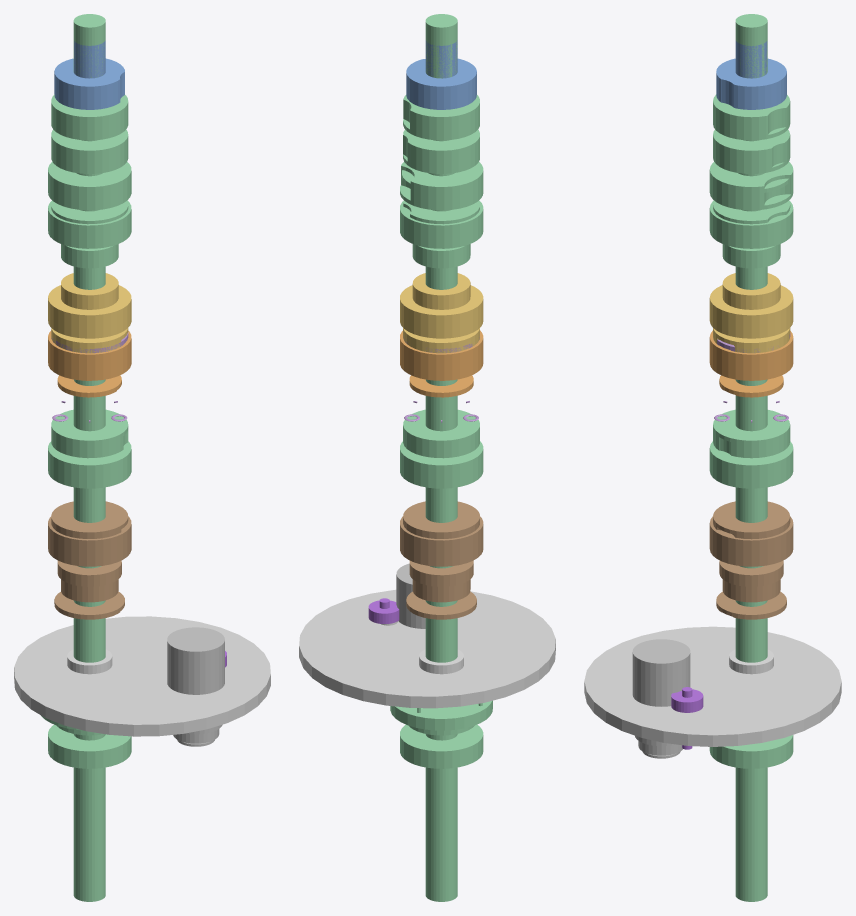
File: gearbox.glb
3 renders of one model, left to right at view 1: azimuth 30°, elevation 25°; view 2: azimuth 150°, elevation 25°; view 3: azimuth 270°, elevation 25°, orthographic.
Visible parts, largest first — view 1: Intermediate Plate, Output Shaft, Counter Gear, Transmission Hub Sleeve No.2, 2nd Gear, Input Shaft Front Bearing, 5th Gear, Transmission Clutch Hub No.2 (Outer), Output Shaft Center Bearing, Output Shaft Rear Bearing, Input Shaft Bearing, 1st Gear (+13 smaller); view 2: Intermediate Plate, Output Shaft, Transmission Hub Sleeve No.2, 2nd Gear, Input Shaft Front Bearing, Output Shaft Rear Bearing, 5th Gear, Output Shaft Center Bearing, Transmission Clutch Hub No.2 (Outer), 1st Gear, Reverse Gear, Input Shaft Bearing (+15 smaller); view 3: Intermediate Plate, Output Shaft, Counter Gear, Transmission Hub Sleeve No.2, 2nd Gear, Input Shaft Front Bearing, 5th Gear, Transmission Clutch Hub No.2 (Outer), Output Shaft Center Bearing, 1st Gear, Input Shaft Bearing, Reverse Gear (+14 smaller).
Part boxes in pixels (x1=…): Intermediate Plate: x1=14, y1=616, x2=270, y2=736; Output Shaft: x1=73, y1=14, x2=105, y2=901; Counter Gear: x1=167, y1=627, x2=224, y2=694; Transmission Hub Sleeve No.2: x1=48, y1=161, x2=131, y2=210; 2nd Gear: x1=48, y1=285, x2=131, y2=338; Input Shaft Front Bearing: x1=54, y1=58, x2=124, y2=109; 5th Gear: x1=48, y1=441, x2=131, y2=488; Transmission Clutch Hub No.2 (Outer): x1=51, y1=129, x2=128, y2=173; Output Shaft Center Bearing: x1=51, y1=409, x2=128, y2=458; Output Shaft Rear Bearing: x1=48, y1=724, x2=131, y2=768; Input Shaft Bearing: x1=51, y1=94, x2=128, y2=140; 1st Gear: x1=48, y1=516, x2=131, y2=566; Intermediate Plate: x1=299, y1=589, x2=555, y2=708; Output Shaft: x1=425, y1=14, x2=457, y2=901; Transmission Hub Sleeve No.2: x1=400, y1=162, x2=483, y2=210; 2nd Gear: x1=400, y1=285, x2=483, y2=338; Input Shaft Front Bearing: x1=406, y1=58, x2=476, y2=109; Output Shaft Rear Bearing: x1=400, y1=724, x2=483, y2=768; 5th Gear: x1=400, y1=441, x2=483, y2=488; Output Shaft Center Bearing: x1=403, y1=409, x2=479, y2=458; Transmission Clutch Hub No.2 (Outer): x1=403, y1=129, x2=479, y2=173; 1st Gear: x1=400, y1=516, x2=483, y2=566; Reverse Gear: x1=400, y1=330, x2=483, y2=380; Input Shaft Bearing: x1=403, y1=95, x2=479, y2=140; Intermediate Plate: x1=584, y1=626, x2=841, y2=746; Output Shaft: x1=735, y1=14, x2=767, y2=901; Counter Gear: x1=632, y1=639, x2=690, y2=706; Transmission Hub Sleeve No.2: x1=709, y1=162, x2=793, y2=210; 2nd Gear: x1=709, y1=285, x2=793, y2=338; Input Shaft Front Bearing: x1=716, y1=58, x2=786, y2=109; 5th Gear: x1=709, y1=441, x2=793, y2=488; Transmission Clutch Hub No.2 (Outer): x1=713, y1=129, x2=790, y2=173; Output Shaft Center Bearing: x1=713, y1=409, x2=790, y2=458; 1st Gear: x1=709, y1=516, x2=793, y2=566; Input Shaft Bearing: x1=713, y1=94, x2=790, y2=140; Reverse Gear: x1=709, y1=330, x2=793, y2=380.
Bounding box in the file's own units: 0.4 × 1.5 × 0.4.
